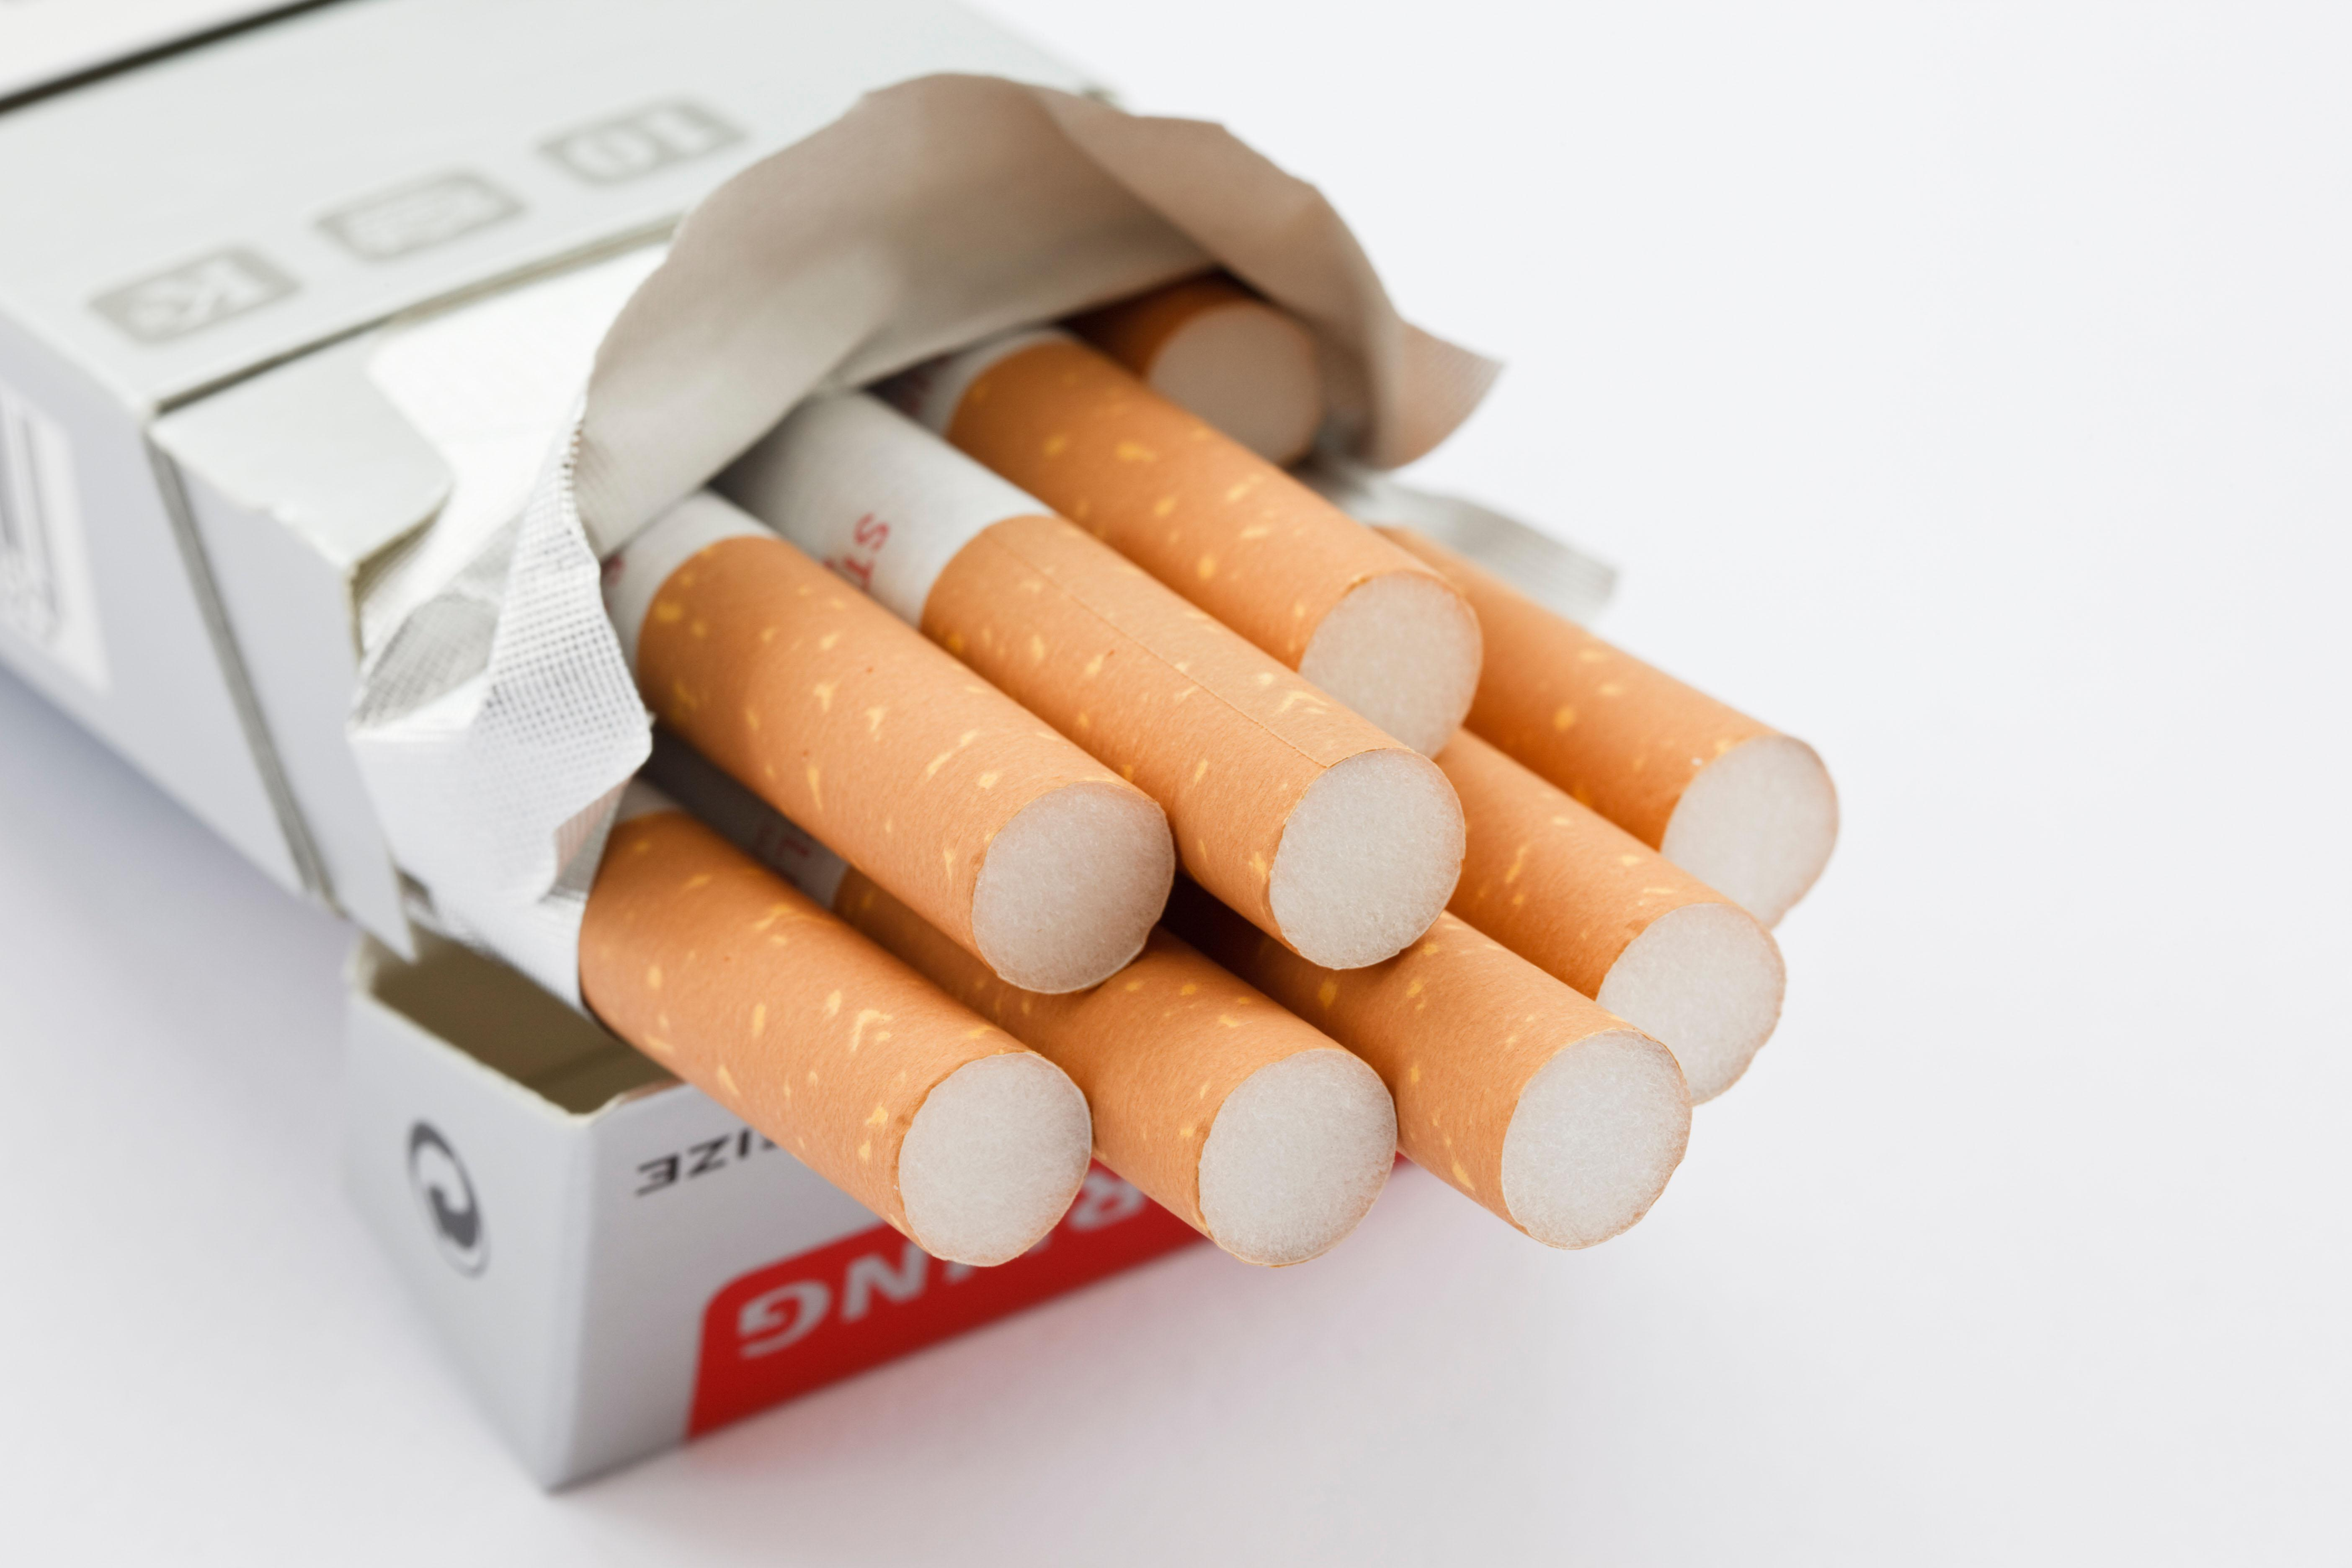cigarette: (590, 285, 1435, 1001)
